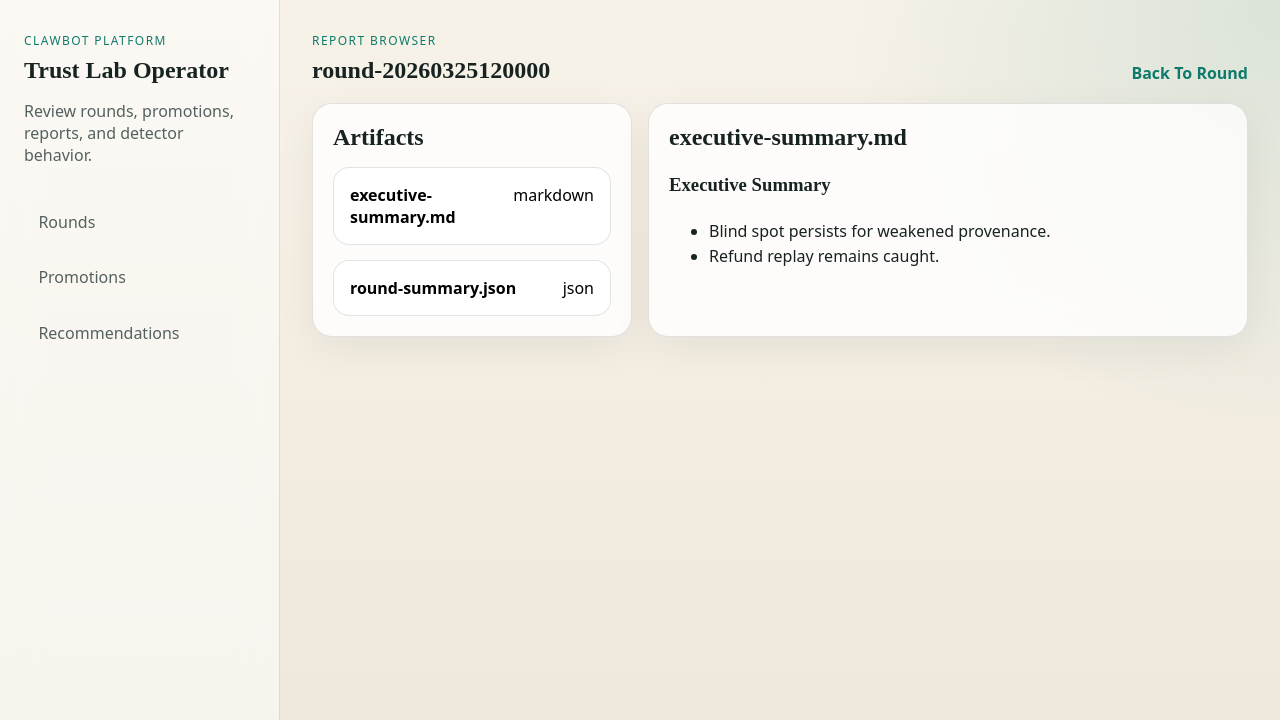
reports page renders artifact content and allows switching artifacts
This screenshot has width=1280, height=720.
Expected: the heading "Executive Summary" is shown, [669,174,831,195]
Click the button "round-summary.json json". click: coordinates (472, 288)
box: [333,260,611,316]
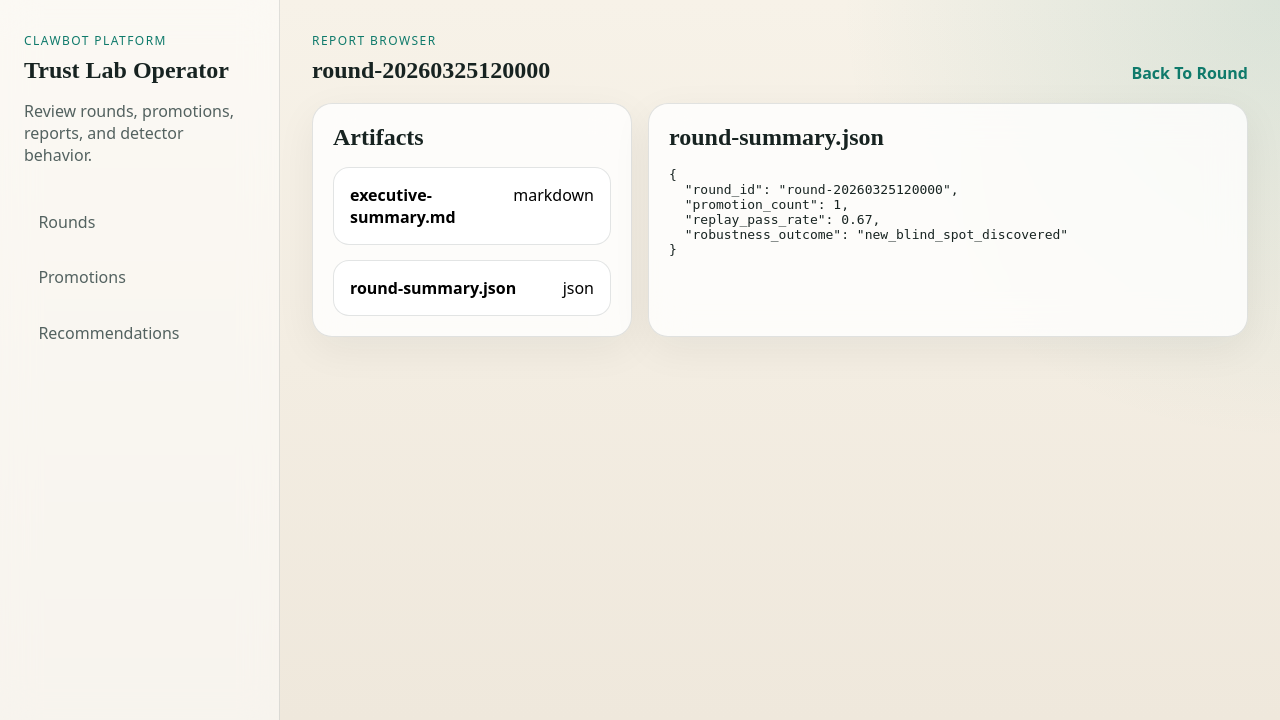
Expected: the text "\"promotion_count\": 1" is shown, [669,167,1068,257]
